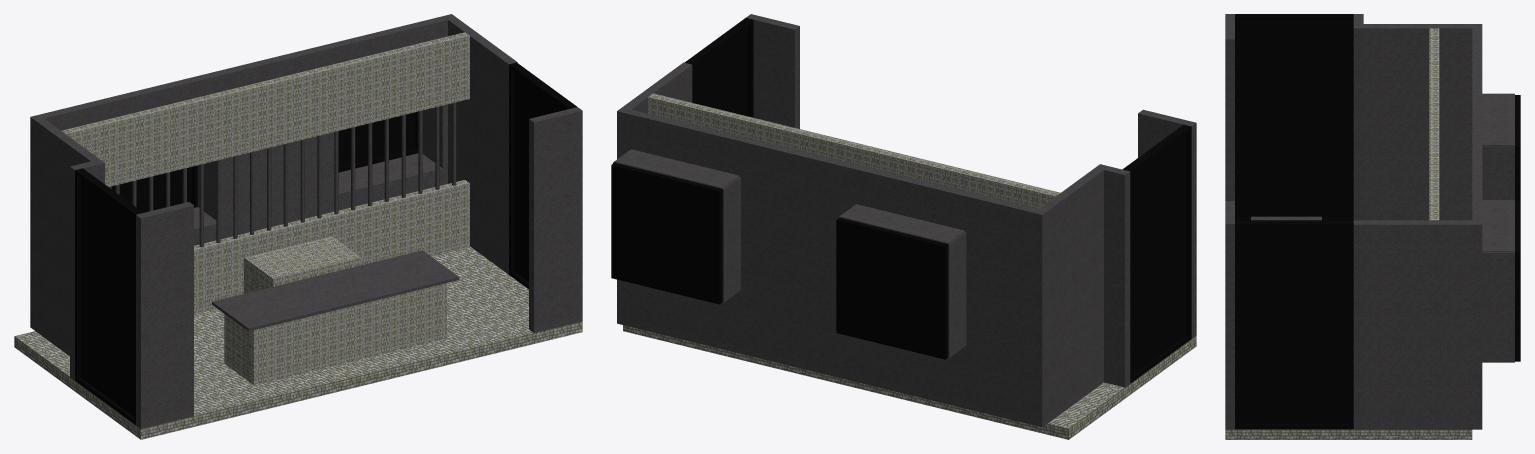
File: JJSBP SITE.fbx
3 views of the same model, side by side, from view 1: azimuth 30°, elevation 25°; view 2: azimuth 150°, elevation 25°; view 3: azimuth 270°, elevation 25° (orthographic). The views are drawn at different scales.
Visible parts, largest first — view 1: wall, table, floor, glass, frame; view 2: wall, glass, frame, table, floor; view 3: wall, glass, frame, floor, table.
Boxes of the visible parts, x1,y1,x2,y2 form: wall: (30,14,582,428); table: (61,32,469,384); floor: (14,246,582,439); glass: (81,72,565,415); frame: (75,62,576,424); wall: (613,14,1196,427); glass: (614,28,1185,374); frame: (611,18,1191,383); table: (648,93,1060,208); floor: (623,325,1196,439); wall: (1225,14,1514,429); glass: (1239,21,1349,423); frame: (1235,14,1520,429); floor: (1225,429,1472,439); table: (1429,28,1439,220).
Bounding box in the file's own units: 252 × 150 × 120.
Materials: 5 (3 with a texture image).
